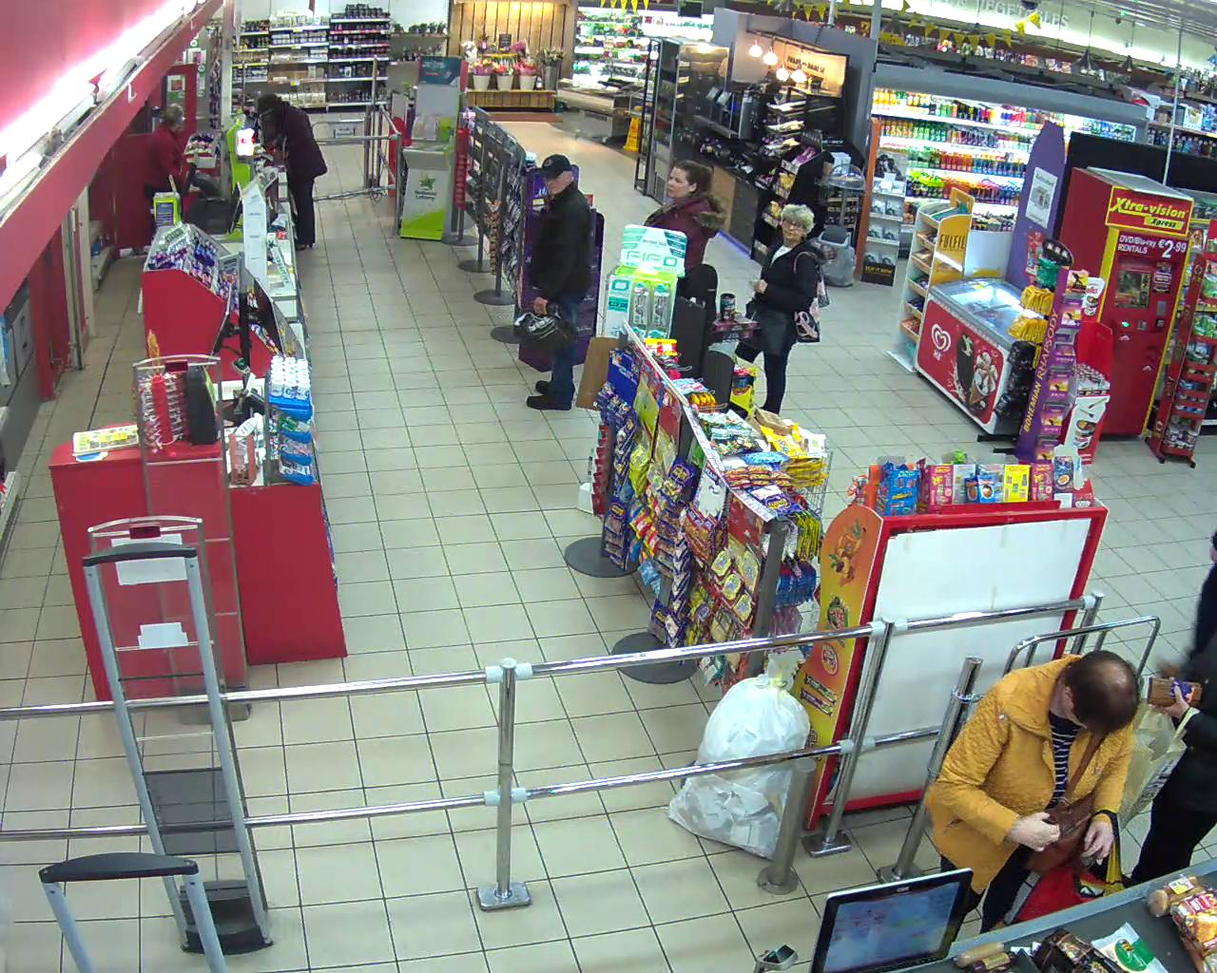backpack-or-handbag: (793, 257, 832, 342)
filled-shopping-bags: (514, 306, 577, 351)
occupied-checkout-counter: (144, 106, 281, 192)
person: (735, 203, 827, 412), (526, 152, 594, 410)
person-with-backpack-handbag: (735, 203, 833, 412)
person-with-filled-shopping-bag-s-: (514, 153, 594, 409)
vacant-checkout-counter: (90, 273, 288, 440), (114, 173, 287, 271)
